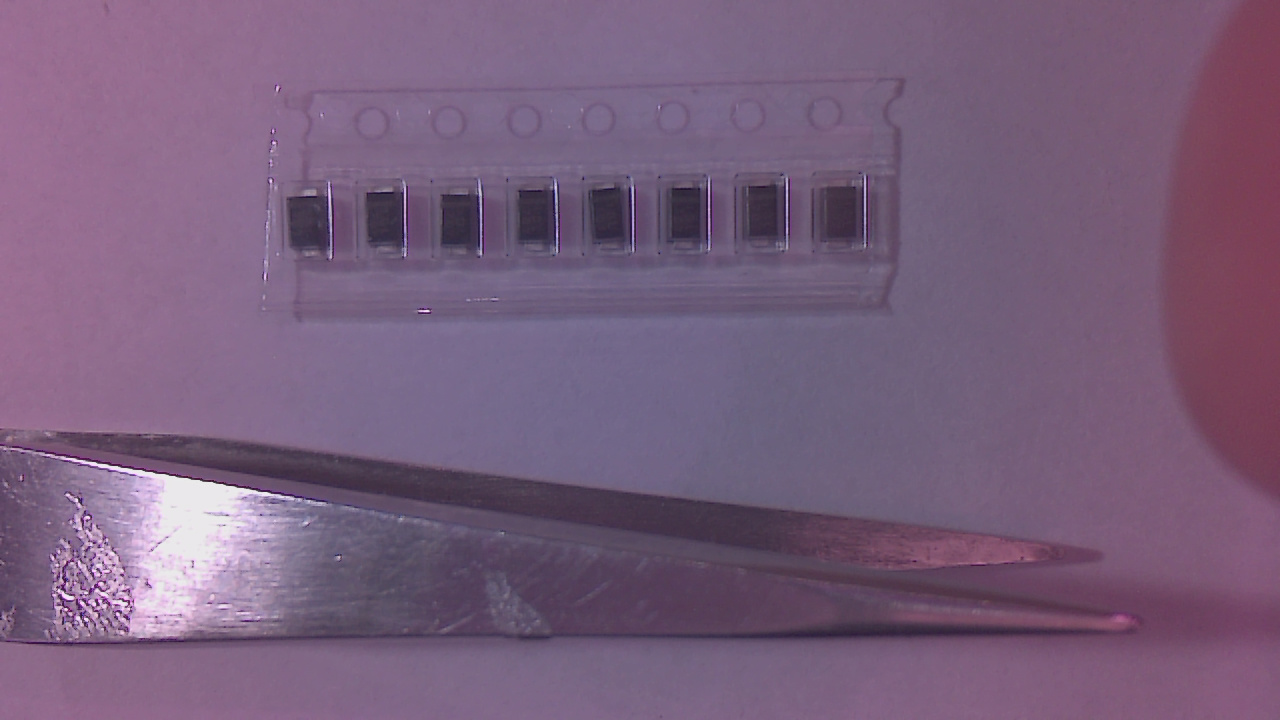Diode: (828, 179, 865, 259), (292, 194, 333, 264), (746, 180, 784, 255), (592, 185, 633, 254), (521, 188, 559, 258), (370, 190, 408, 259), (445, 191, 480, 262), (673, 184, 708, 255)
